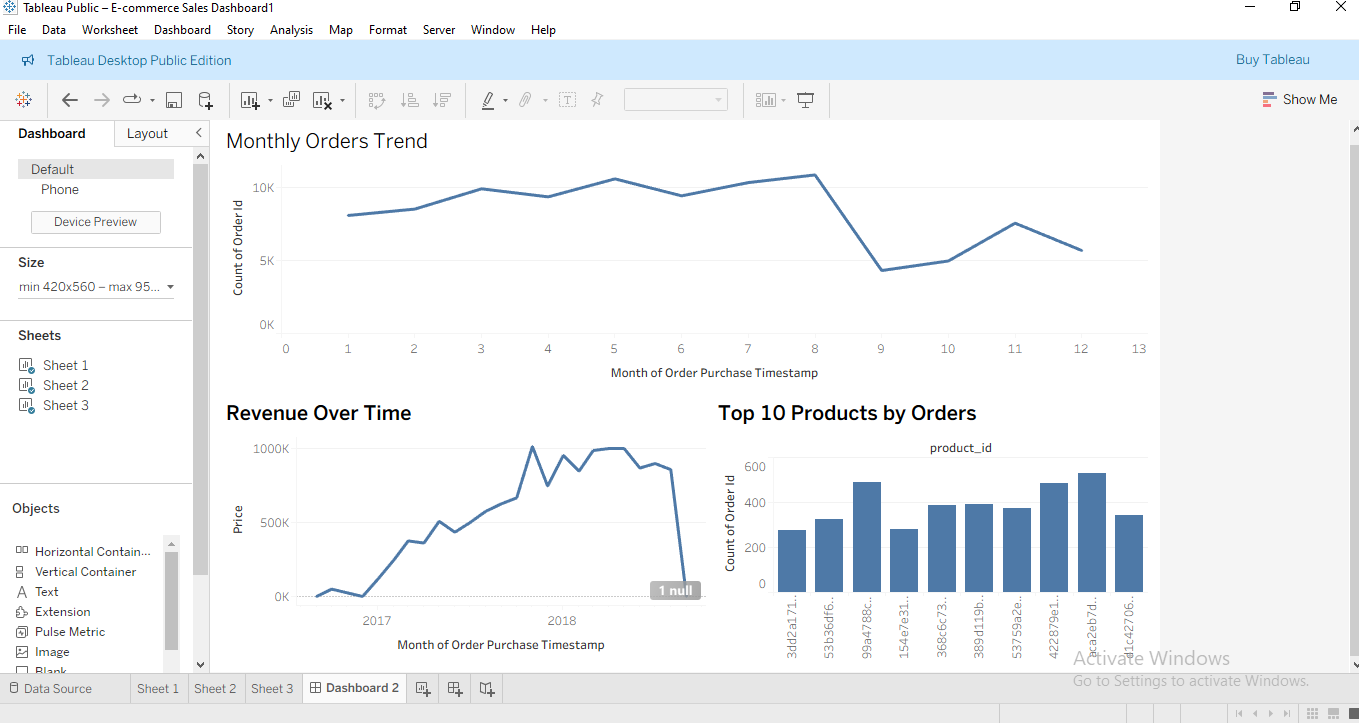

This screenshot's page, from the dashboard's own definition file:
{"tool":"tableau","page":{"name":"Dashboard 2","canvas":[650,860],"ordinal":1},"visuals":[{"type":"worksheet","title":"Sheet 1","mark":"Automatic","rows":["order_id"],"cols":["order_purchase_timestamp"],"box":[8,12.3,634,417.7]},{"type":"worksheet","title":"Sheet 2","mark":"Automatic","rows":["price"],"cols":["order_purchase_timestamp"],"box":[8,430,333.8,417.7]},{"type":"worksheet","title":"Sheet 3","mark":"Automatic","rows":["order_id"],"cols":["product_id"],"box":[341.8,430,300.2,417.7]}]}

Visuals, with their boxes on the page's 650x860 design canvas (x1, y1, x2, y2). These are canvas units, not pixel positions in the 1359x723 screenshot, which may show the page scaled, cropped or inside an application window:
"Sheet 1" worksheet: rect(8, 12, 642, 430)
"Sheet 2" worksheet: rect(8, 430, 342, 848)
"Sheet 3" worksheet: rect(342, 430, 642, 848)
